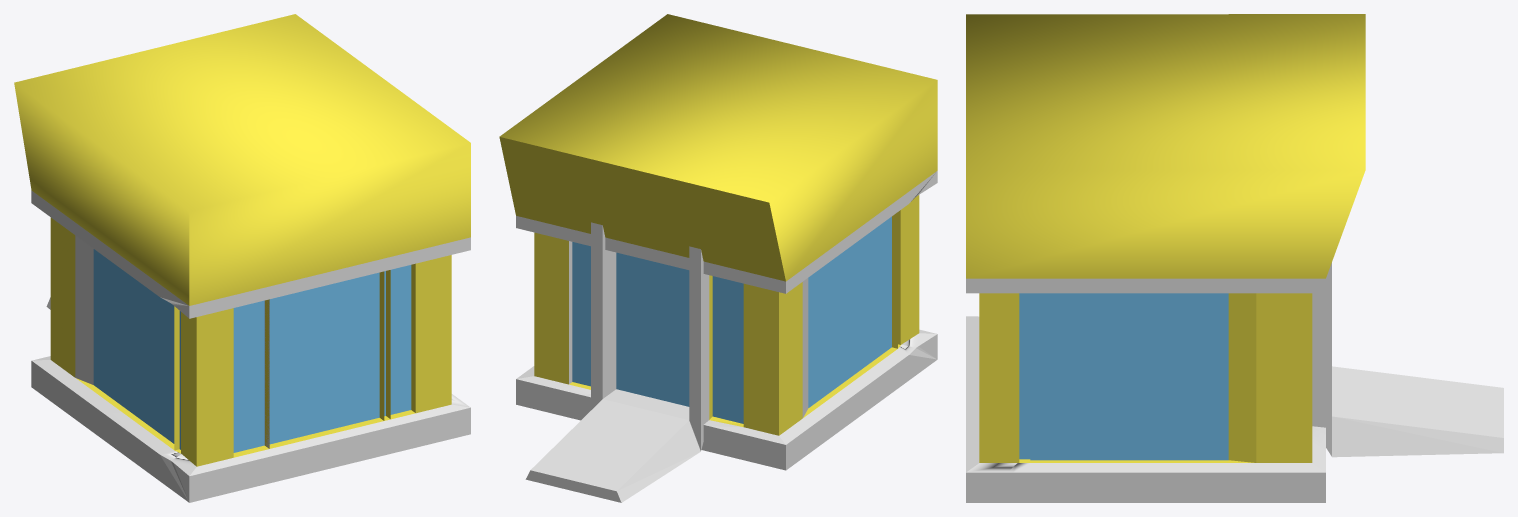
Rendered from Shop2x2x2Yellow.fbx.
The picture shows the model from 3 angles, left to right: view 1: azimuth 30°, elevation 25°; view 2: azimuth 150°, elevation 25°; view 3: azimuth 270°, elevation 25°; orthographic projection. The views are drawn at different scales.
Parts seen in each view (by area): view 1: Shop.001; view 2: Shop.001; view 3: Shop.001.
Part boxes in pixels (x1,y1,x2,y2): Shop.001: (14, 14, 470, 502); Shop.001: (499, 14, 937, 502); Shop.001: (966, 14, 1503, 502).
Size of the model in its own units: 2 by 1.98 by 2.91.
1 material, 1 textured.
